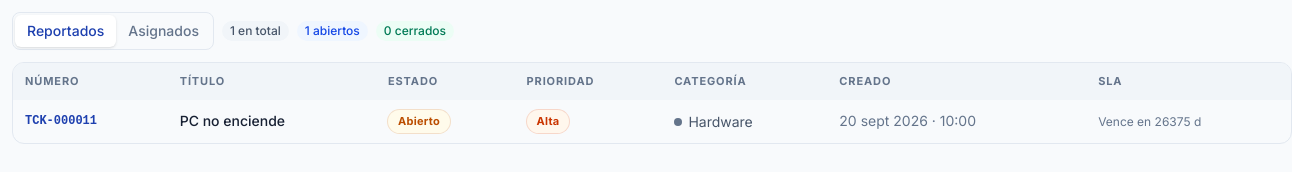
Test case: UserTicketHistory › cambia al historial de tickets asignados
Expected: the link "PC no enciende" is shown, x1=180 y1=112 x2=285 y2=129
Click the button "Asignados" at (164, 31), box x1=116 y1=15 x2=211 y2=47
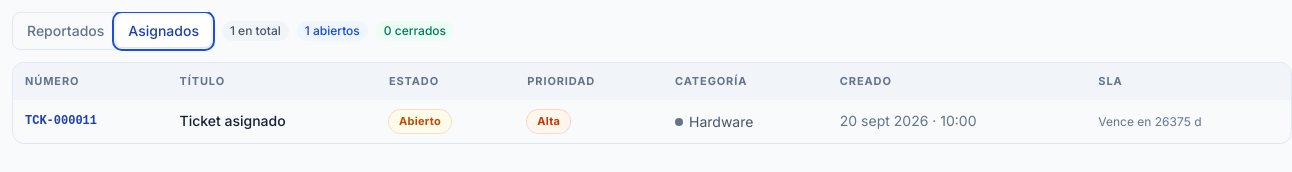
Expected: the link "Ticket asignado" is shown, x1=180 y1=112 x2=286 y2=129
